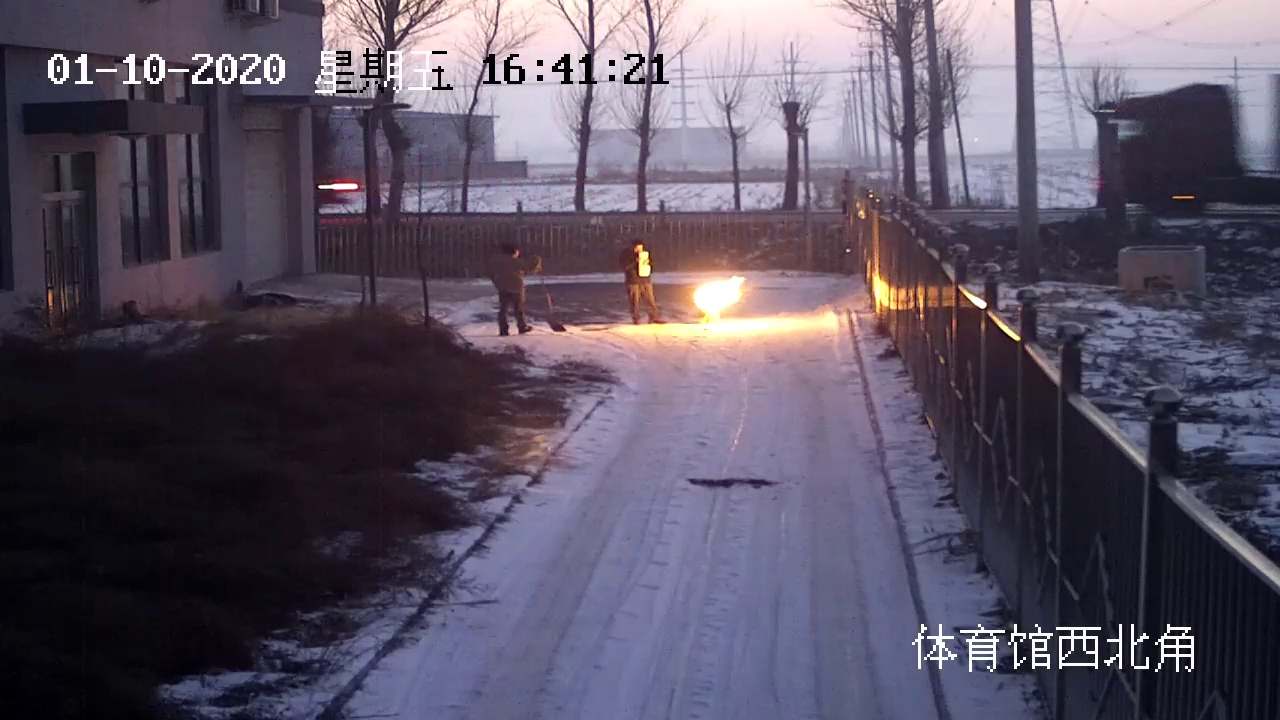fire: (695, 270, 745, 313)
